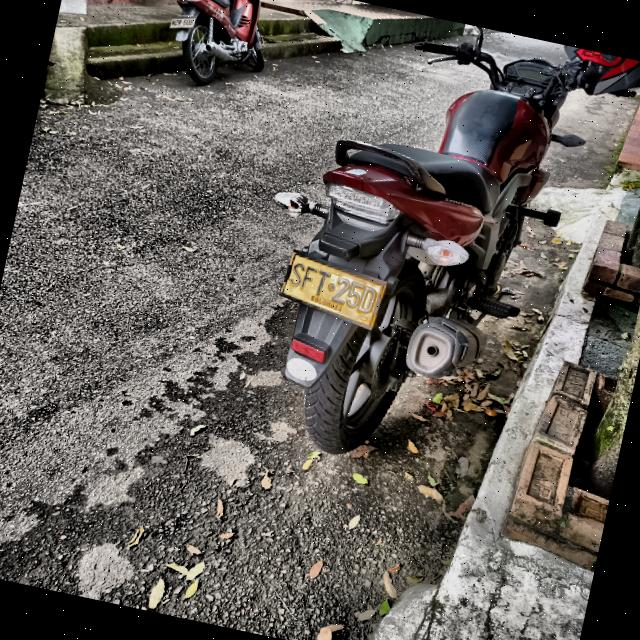2: (329, 276, 351, 306)
5: (343, 281, 364, 311)
D: (356, 284, 378, 315)
F: (298, 265, 319, 294)
S: (286, 260, 306, 289)
T: (311, 268, 332, 297)
